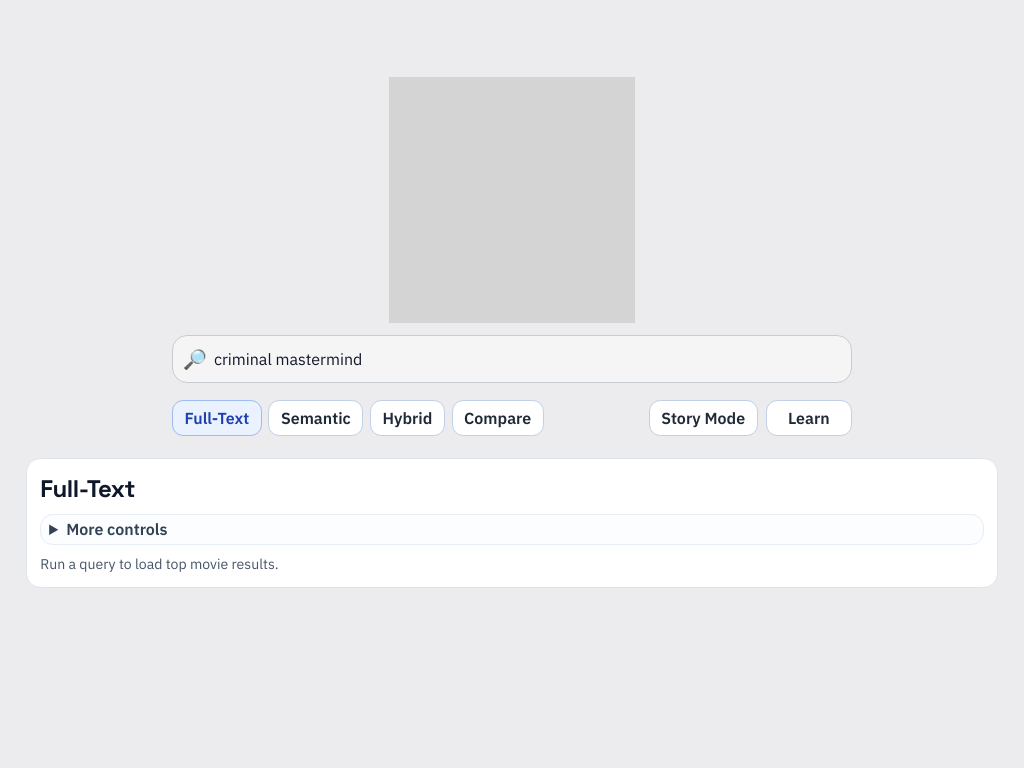
it: App › keeps advanced controls hidden until More controls is expanded
Expected: the field named "Query" is shown, [214,349,841,369]
Expected: the field labelled "Limit" is not shown
What coordinates should you click on to do the following:
click the heading "More controls"
I would click on:
 (117, 529)
Its box is [66,519,168,539].
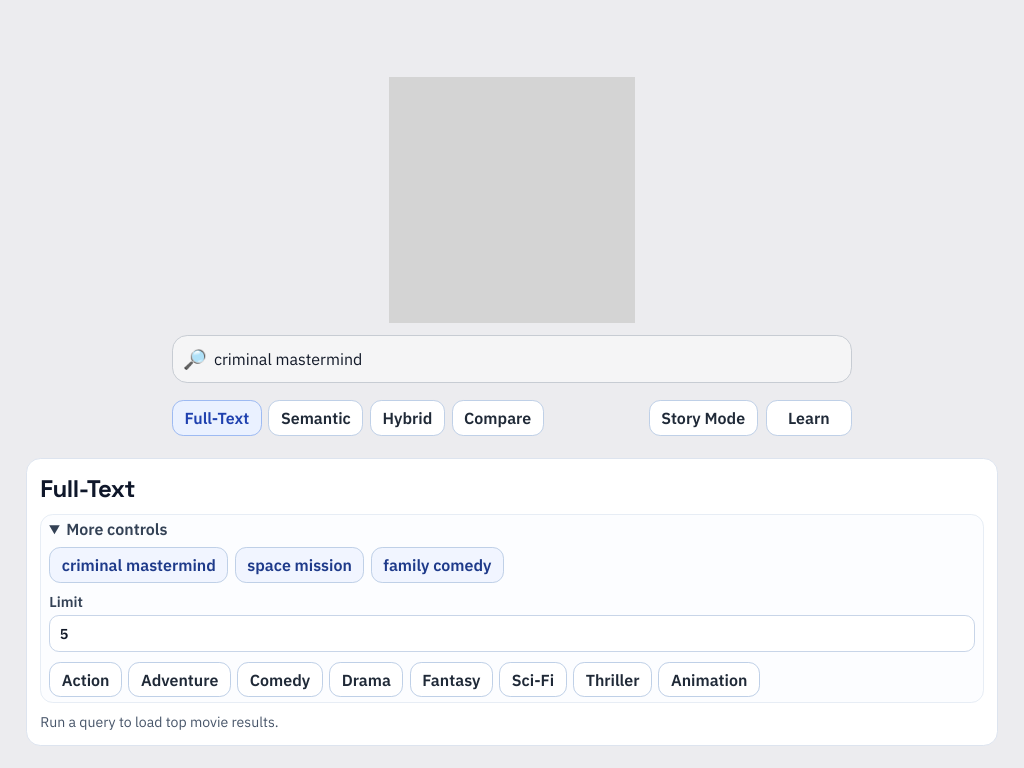
Expected: the field labelled "Min Rating" is not shown
Now the number field labelled "Limit" is shown, box [49,615,975,652]
What coordinates should you click on to do the following:
click the tab "Semantic"
I would click on:
 (316, 418)
Its box is [268,400,363,436].
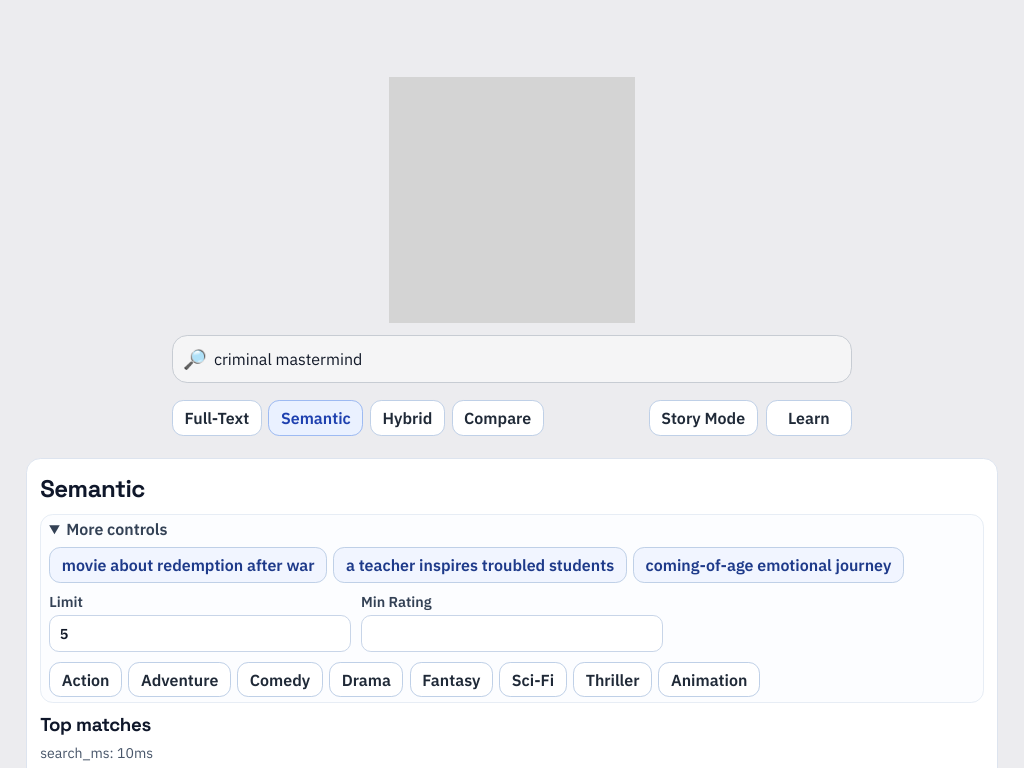
Now the number field labelled "Min Rating" is shown, box [361,615,663,652]
